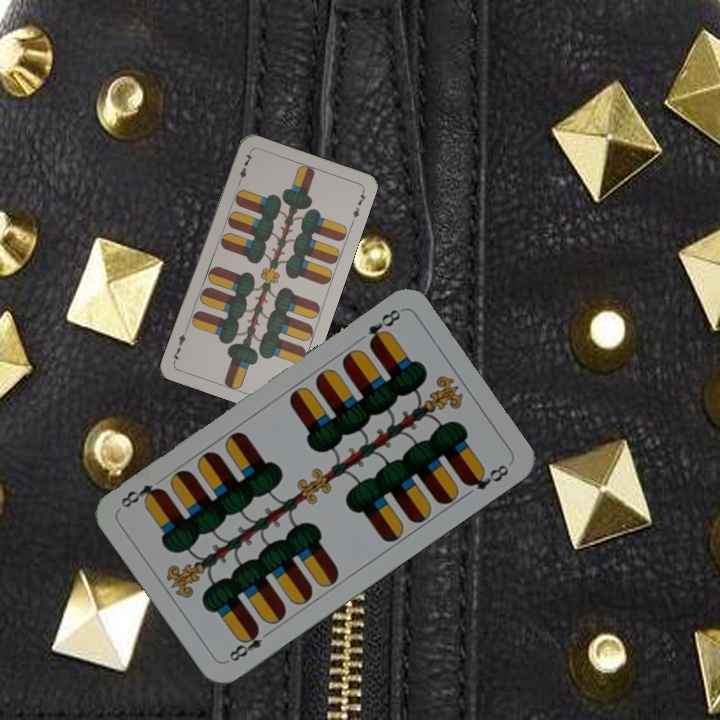E7: (235, 148, 256, 187)
E8: (225, 623, 275, 664), (363, 305, 404, 350)
